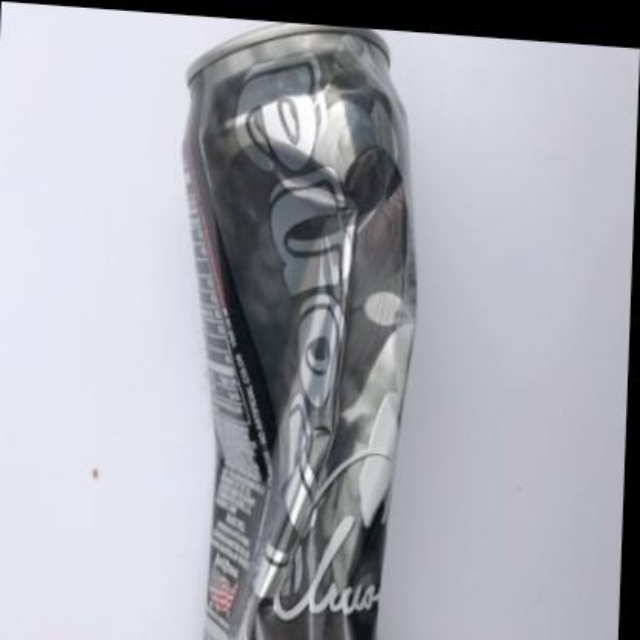trash: (185, 25, 414, 638)
